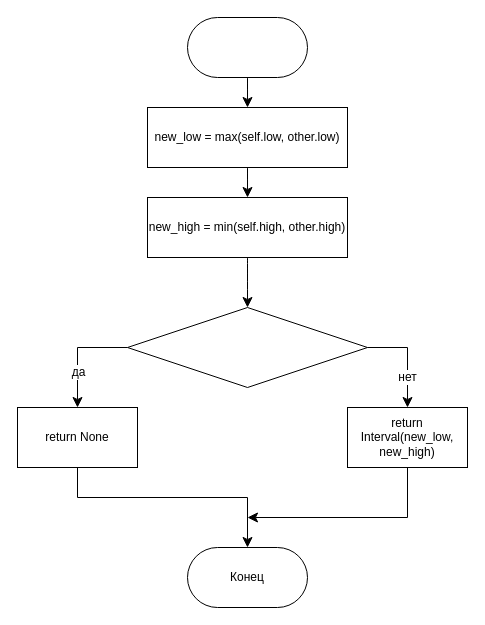
Some shapes in this 485 by 625 pixel diagram are drawn without their labels. Here are the shapes that lost their labels. From the top down, the centre of each, then its label:
the point at 247,47: Начало
the point at 247,347: new_low > new_high + 1e-9
